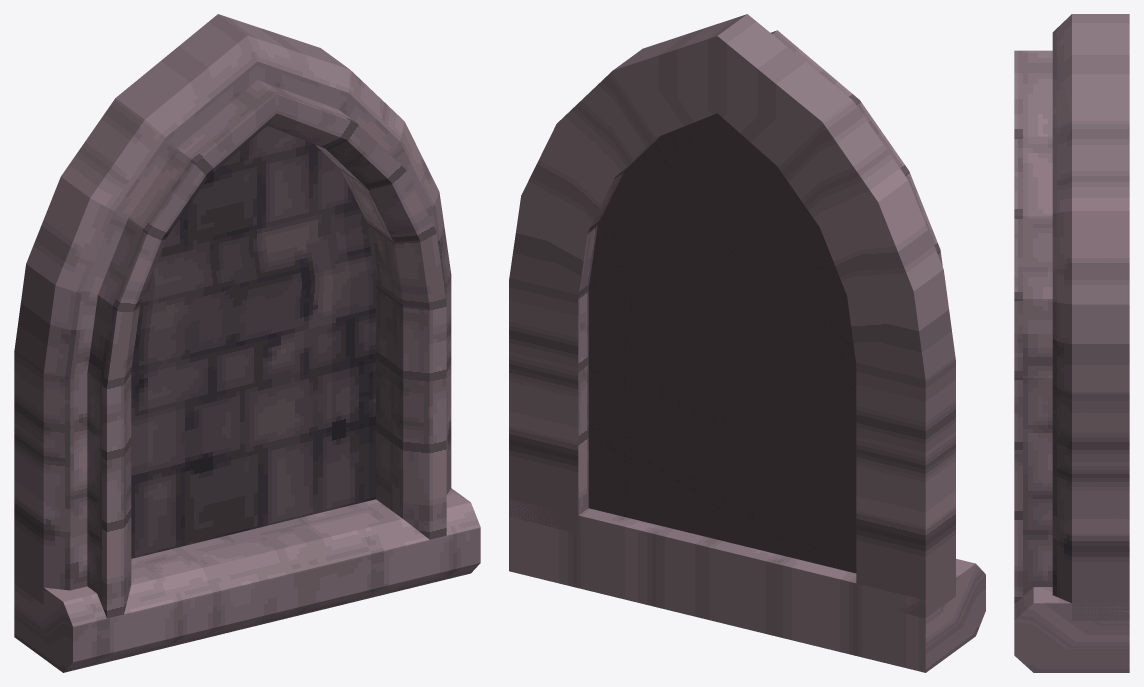
The model's file is wall_niche_room_c.glb.
3 views of the same model, side by side, from view 1: azimuth 30°, elevation 25°; view 2: azimuth 150°, elevation 25°; view 3: azimuth 270°, elevation 25° (orthographic). The views are drawn at different scales.
Visible parts, largest first — view 1: frame, back_plate, sill; view 2: frame, back_plate, sill; view 3: frame, sill.
Boxes of the visible parts, bbox=[...] form: frame: bbox=[14, 14, 451, 618]; back_plate: bbox=[131, 125, 375, 558]; sill: bbox=[14, 488, 480, 672]; frame: bbox=[509, 14, 955, 618]; back_plate: bbox=[588, 113, 856, 573]; sill: bbox=[509, 498, 985, 672]; frame: bbox=[1014, 14, 1129, 620]; sill: bbox=[1014, 587, 1129, 672].
Bounding box in the file's own units: 1.5 × 2.02 × 0.375.
Materials: 1 (1 with a texture image).
